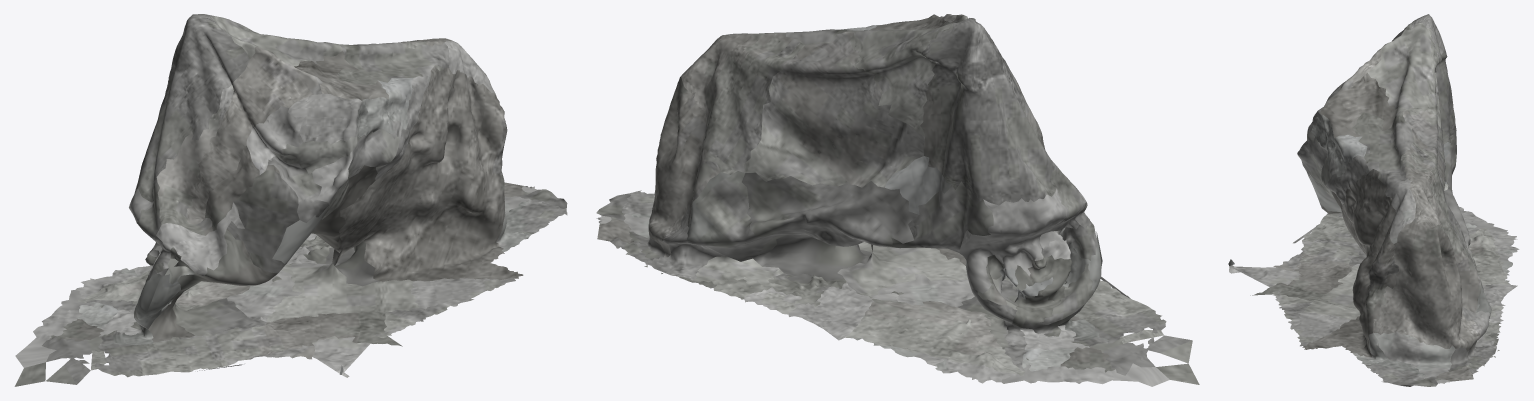
The model's file is scan 003_ar_002.glb.
3 renders of one model, left to right at view 1: azimuth 30°, elevation 25°; view 2: azimuth 150°, elevation 25°; view 3: azimuth 270°, elevation 25°, orthographic. The views are drawn at different scales.
Parts seen in each view (by area): view 1: Mesh_0; view 2: Mesh_0; view 3: Mesh_0.
Part boxes in pixels (<box>): Mesh_0: <box>14,14,567,386</box>; Mesh_0: <box>596,14,1199,386</box>; Mesh_0: <box>1228,14,1519,386</box>.
Size of the model in its own units: 2.4 by 1.28 by 1.28.
1 material, 1 textured.
